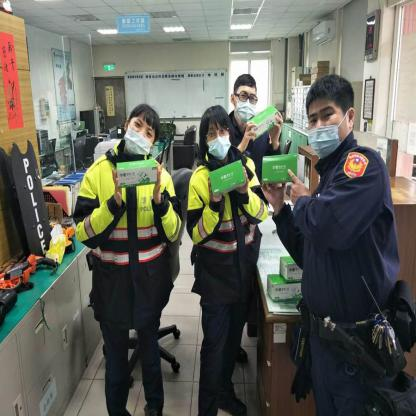Wearing_Mask: (306, 103, 346, 158), (123, 117, 154, 158), (205, 125, 231, 159), (233, 90, 258, 124)
